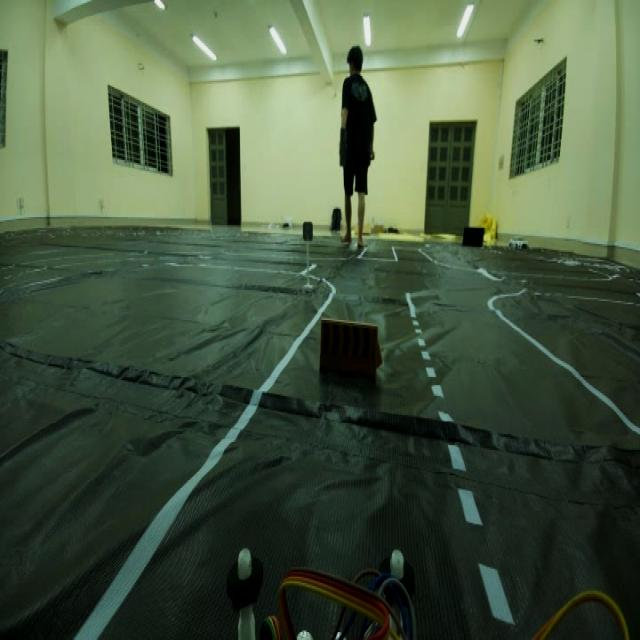roadblock: (314, 308, 389, 394)
